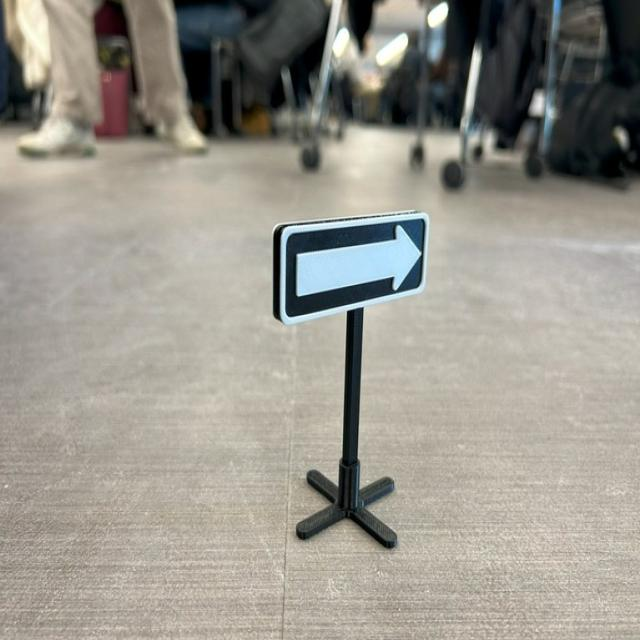sign_oneway_right: (268, 209, 435, 325)
